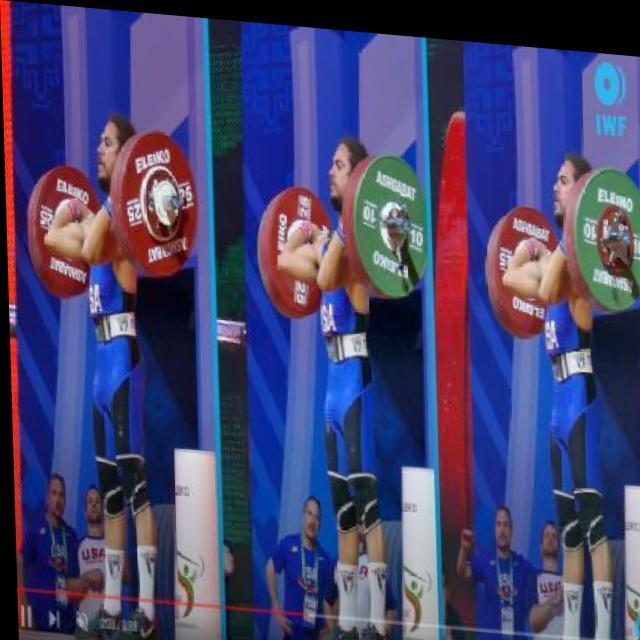barbell: (116, 118, 203, 277), (350, 140, 431, 300), (571, 149, 640, 306)
